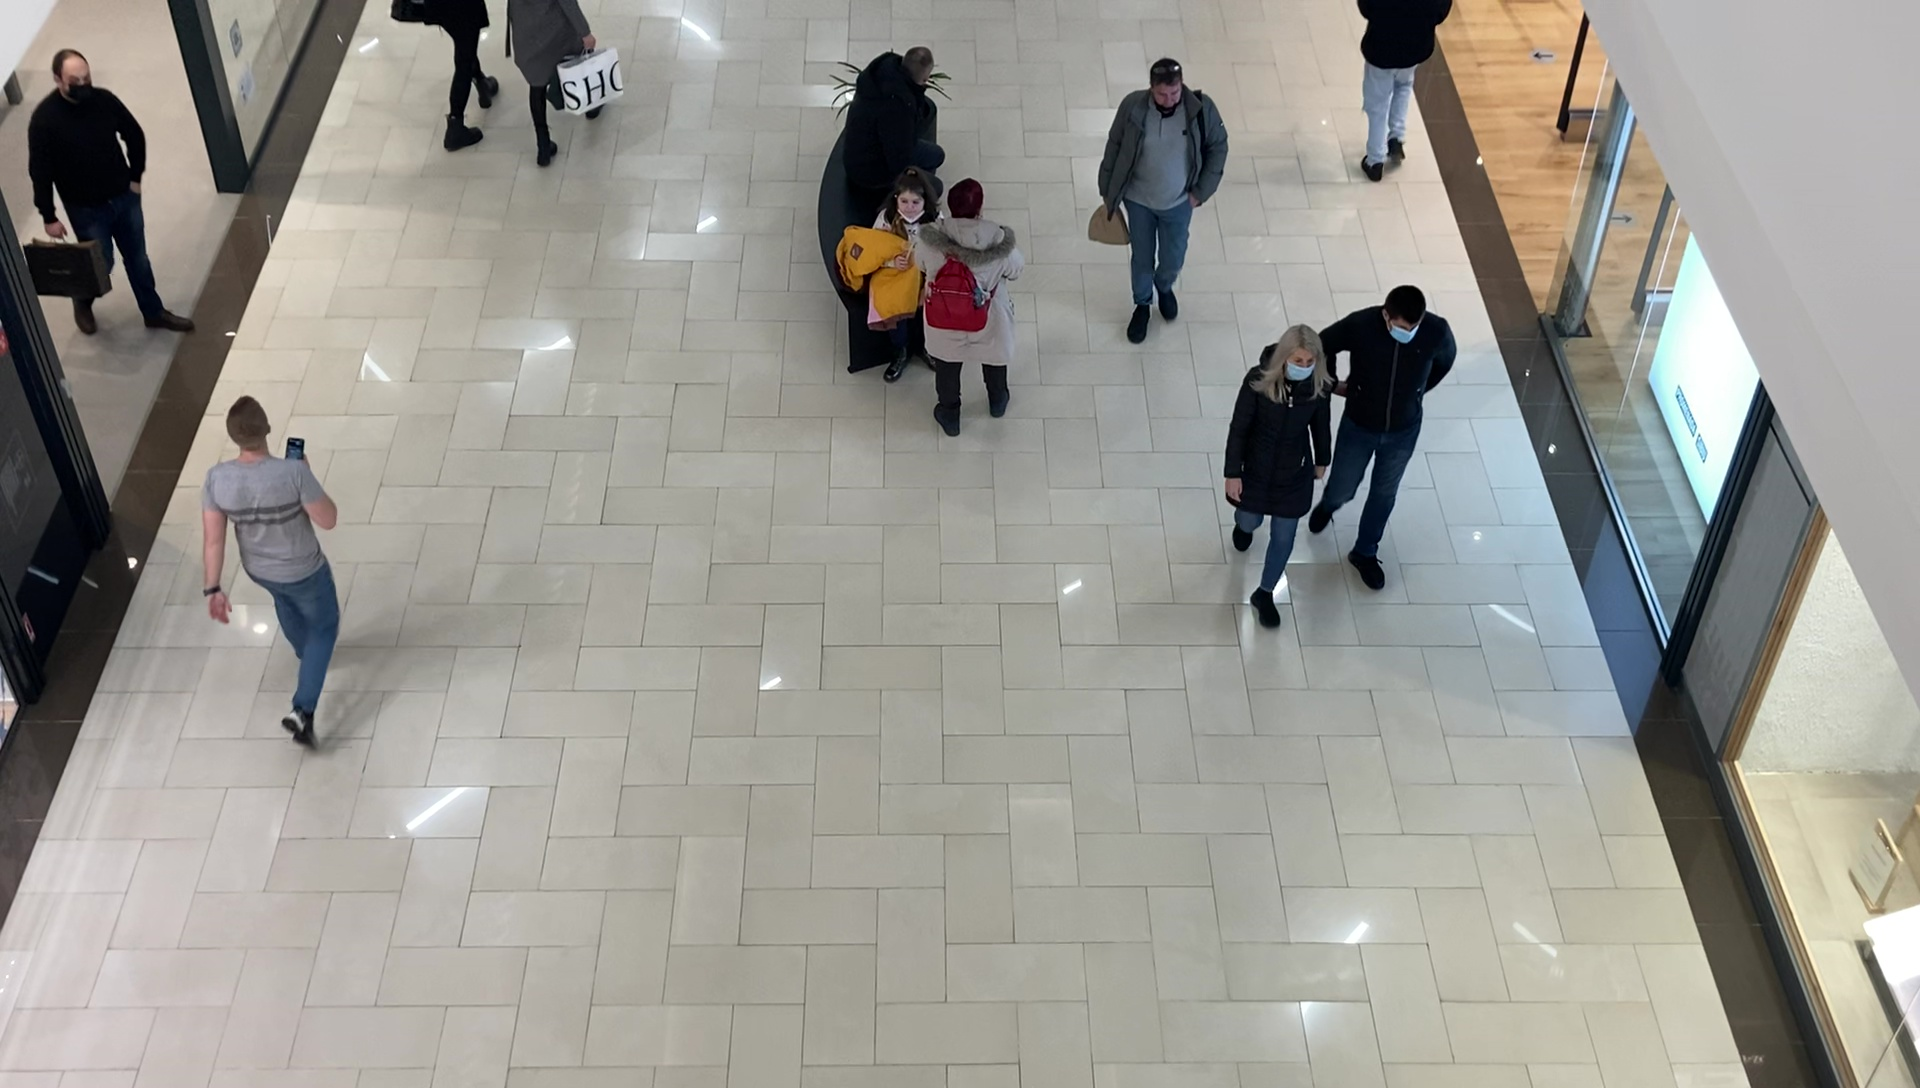person: (201, 395, 345, 751), (26, 48, 195, 332), (1316, 279, 1458, 594), (1097, 59, 1231, 346), (1224, 324, 1332, 630), (915, 177, 1026, 438), (505, 1, 626, 167), (837, 169, 934, 377), (1353, 1, 1458, 184), (387, 1, 501, 151), (850, 46, 945, 185)
